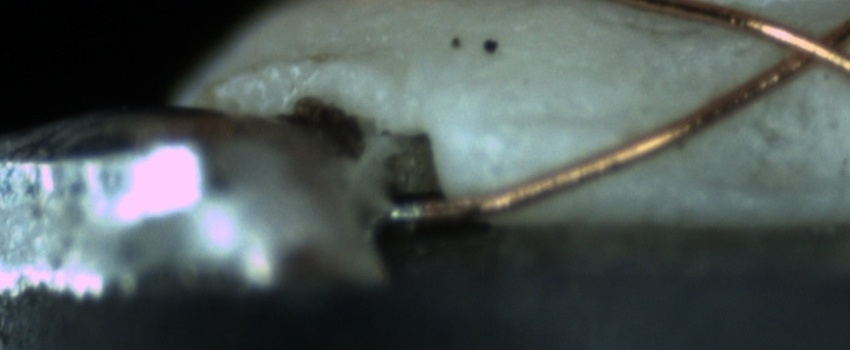CL: (759, 10, 850, 82)
DL: (474, 92, 632, 148)
TS: (389, 203, 424, 225)
